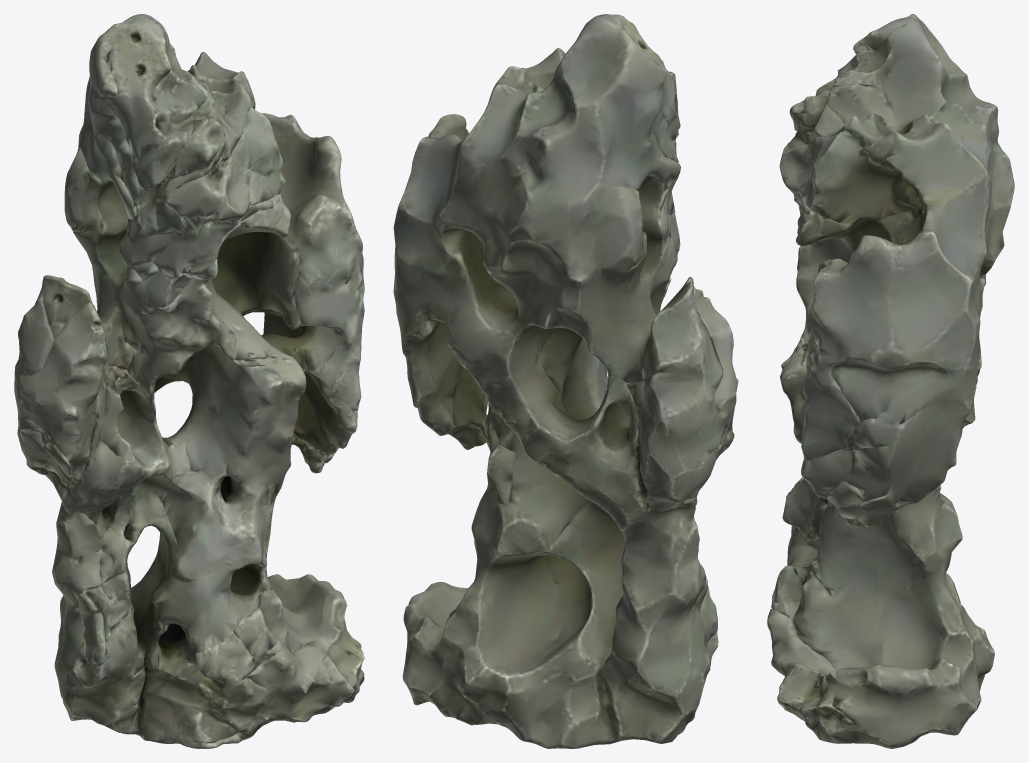
The model's file is Dieshi_3.glb.
3 views of the same model, side by side, from view 1: azimuth 30°, elevation 25°; view 2: azimuth 150°, elevation 25°; view 3: azimuth 270°, elevation 25° (orthographic). The views are drawn at different scales.
Parts seen in each view (by area): view 1: tripo_node_9ecb292f-feba-4c90-b585-6a63f0f41400; view 2: tripo_node_9ecb292f-feba-4c90-b585-6a63f0f41400; view 3: tripo_node_9ecb292f-feba-4c90-b585-6a63f0f41400.
Part boxes in pixels (x1,y1,x2,y2): tripo_node_9ecb292f-feba-4c90-b585-6a63f0f41400: (14,14,364,748); tripo_node_9ecb292f-feba-4c90-b585-6a63f0f41400: (393,14,738,748); tripo_node_9ecb292f-feba-4c90-b585-6a63f0f41400: (767,14,1014,748).
Bounding box in the file's own units: 0.4732 × 0.9782 × 0.3404.
Materials: 1 (1 with a texture image).
